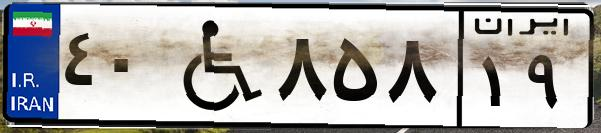0: (110, 28, 158, 98)
1: (475, 38, 525, 113)
4: (57, 26, 110, 100)
5: (330, 28, 385, 110)
8: (270, 28, 330, 110), (385, 28, 445, 110)
9: (525, 38, 570, 115)
ژ (معلولین و جانبازان): (158, 12, 270, 120)
